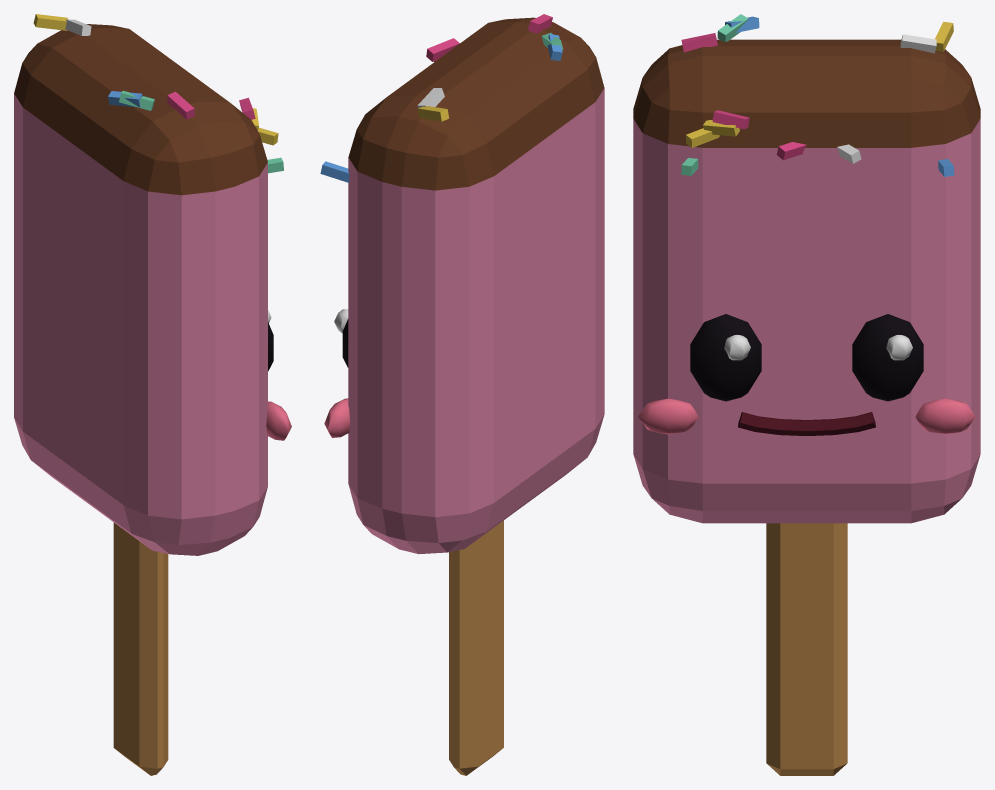
File: popsicle.glb
3 views of the same model, side by side, from view 1: azimuth 30°, elevation 25°; view 2: azimuth 150°, elevation 25°; view 3: azimuth 270°, elevation 25° (orthographic). The views are drawn at different scales.
Parts seen in each view (by area): view 1: popsicle; view 2: popsicle; view 3: popsicle.
Part boxes in pixels (left/top/right/bottom): popsicle: left=14, top=14, right=291, bottom=775; popsicle: left=320, top=14, right=604, bottom=775; popsicle: left=633, top=14, right=980, bottom=775.
Size of the model in its own units: 0.1665 by 0.7001 by 0.3.
